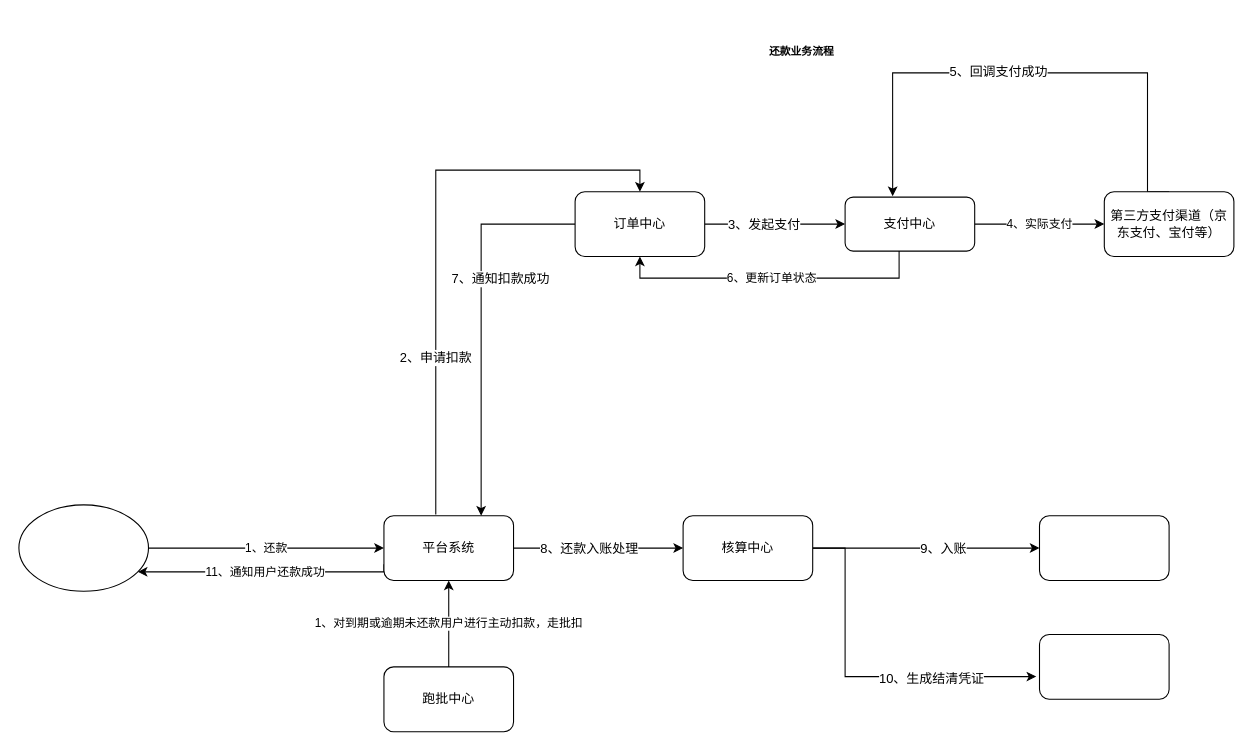
Image size: 1253x751. Some labels were removed from this diagram. Here are the shapes that lost their labels. From the top down, the box of each, then its label:
(18, 504, 148, 591): 用户
(1038, 515, 1169, 580): 账务中心
(1038, 633, 1169, 699): 合同中心
